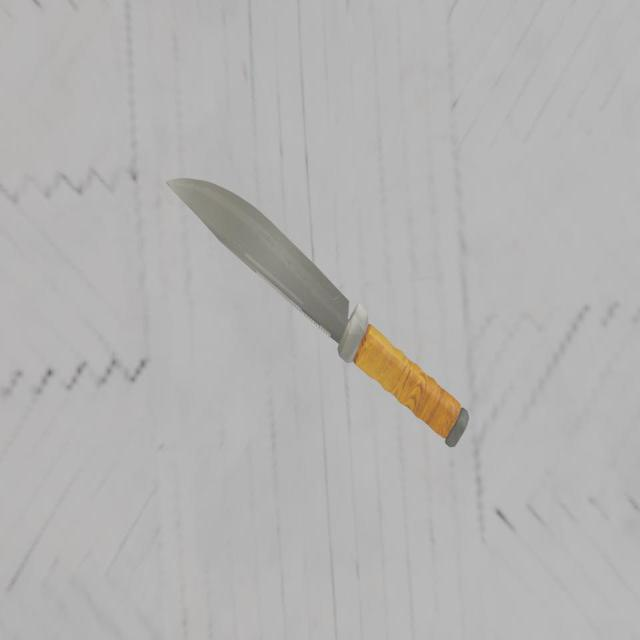knife: (347, 320, 464, 448)
